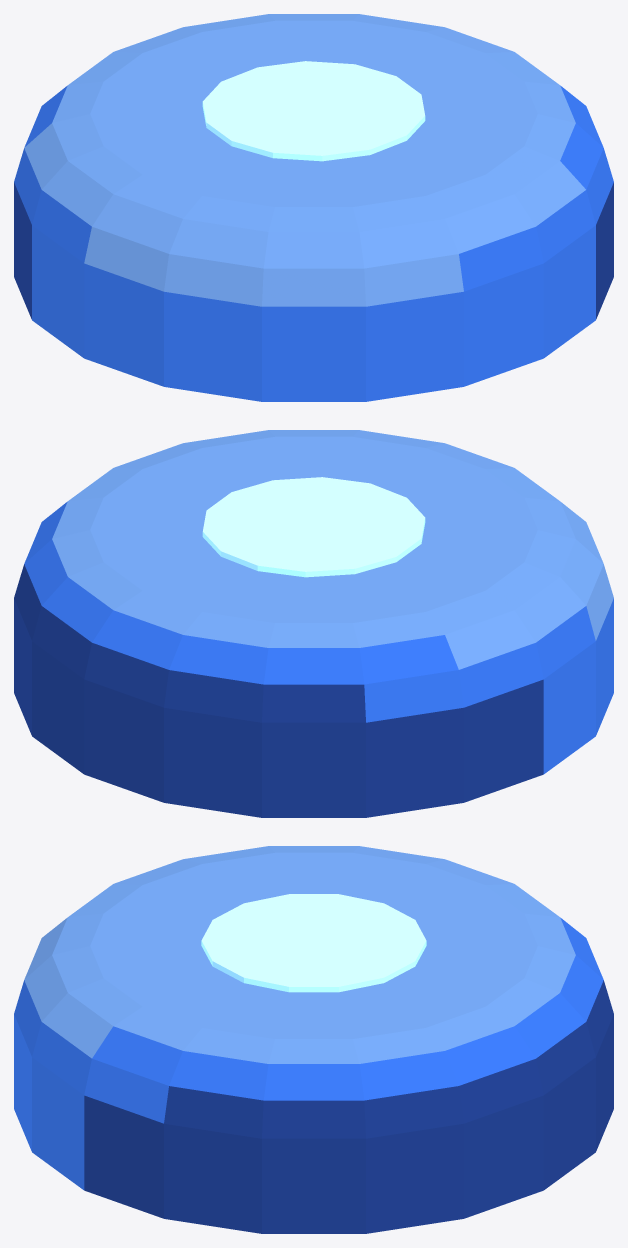
File: Plate_LatchPad.gltf
3 views of the same model, one above another, from view 1: azimuth 30°, elevation 25°; view 2: azimuth 150°, elevation 25°; view 3: azimuth 270°, elevation 25° (orthographic).
Visible parts, largest first — view 1: Plate_LatchPad_baked; view 2: Plate_LatchPad_baked; view 3: Plate_LatchPad_baked.
Boxes of the visible parts, x1=… form: Plate_LatchPad_baked: x1=14, y1=14, x2=613, y2=401; Plate_LatchPad_baked: x1=14, y1=430, x2=613, y2=817; Plate_LatchPad_baked: x1=14, y1=846, x2=613, y2=1233.
Size of the model in its own units: 0.3939 by 0.124 by 0.4.
